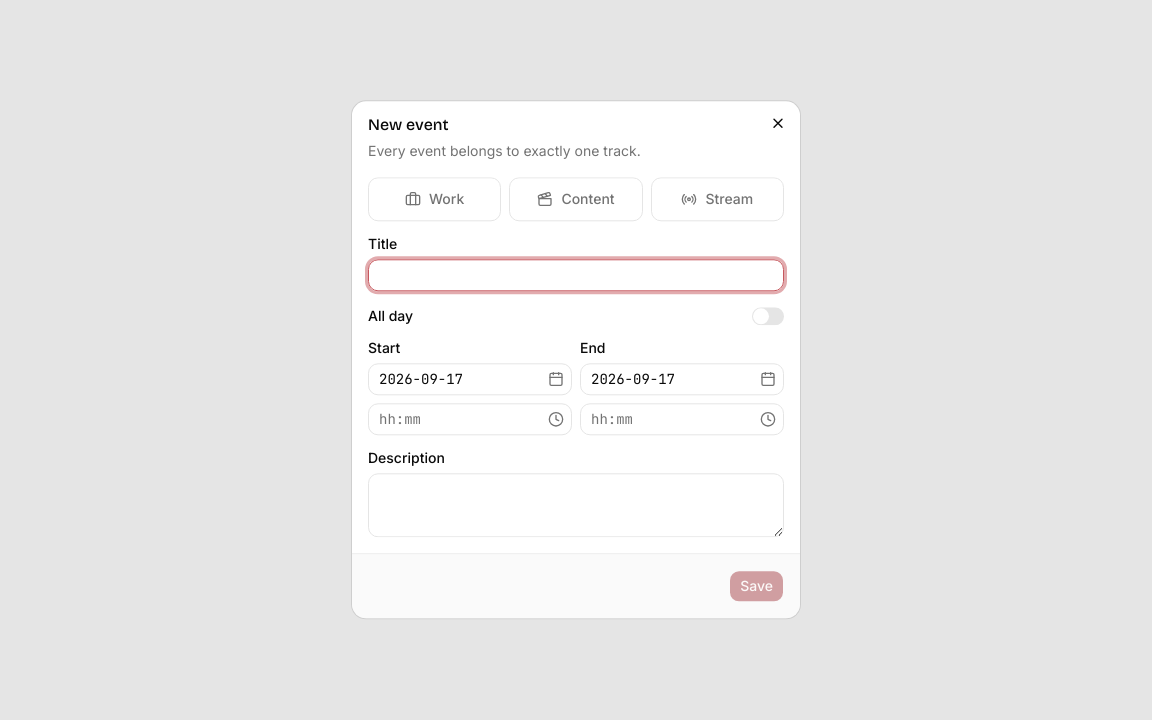
Test: EventEditor — create mode › disables submit until a track is chosen
Expected: the button "Save" is disabled, [729,571,784,603]
Click the radio button labelled "Work". click: (435, 199)
box: [368,177,501,221]
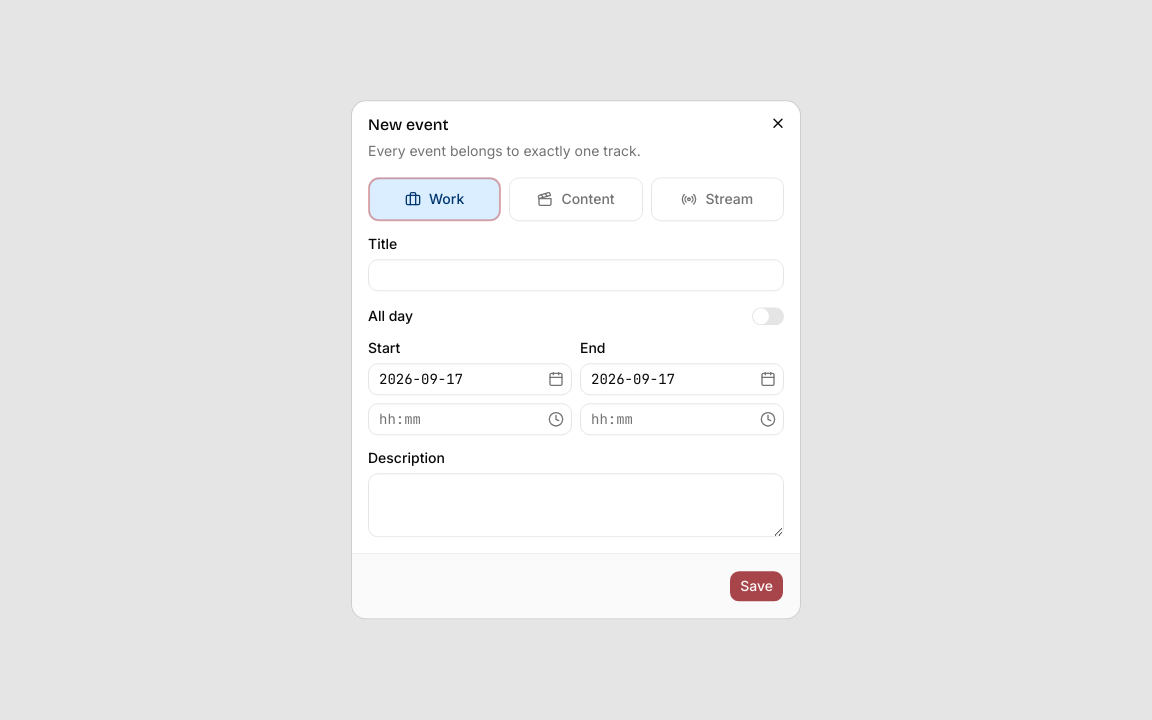
Now the button "Save" is enabled, box [729,571,784,603]
